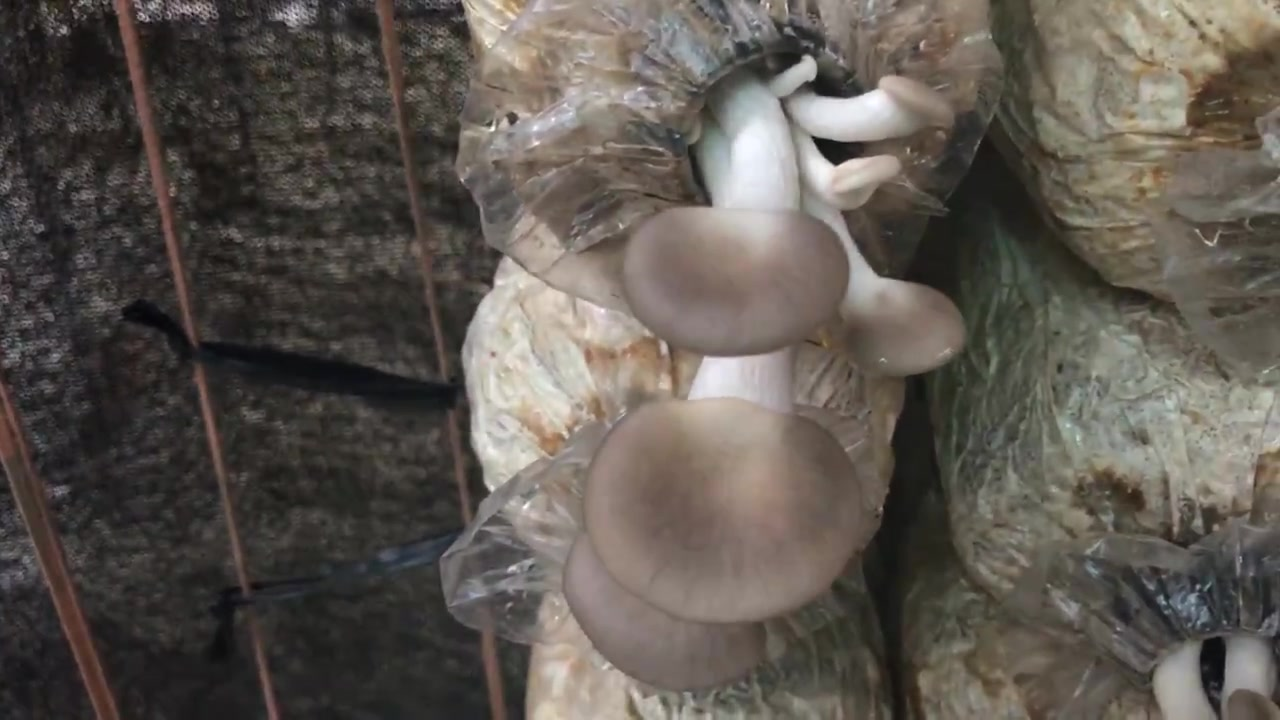nam: (625, 13, 968, 374), (566, 346, 866, 696)
